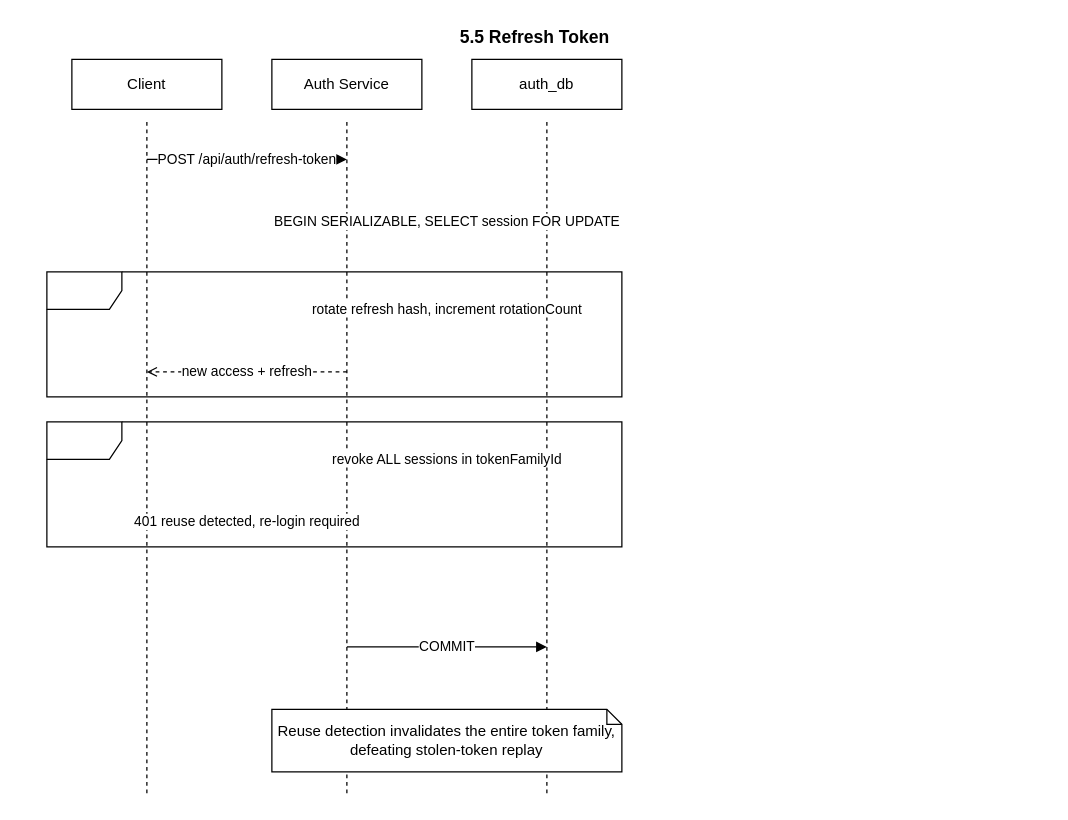
This 1068x820 diagram has some shape labels left out. Here are the shapes that lost their labels. From the top down, the centre of each, then its label:
At [334,334]: "alt token matches current hash".
At [334,484]: "else already-rotated reuse detected".
